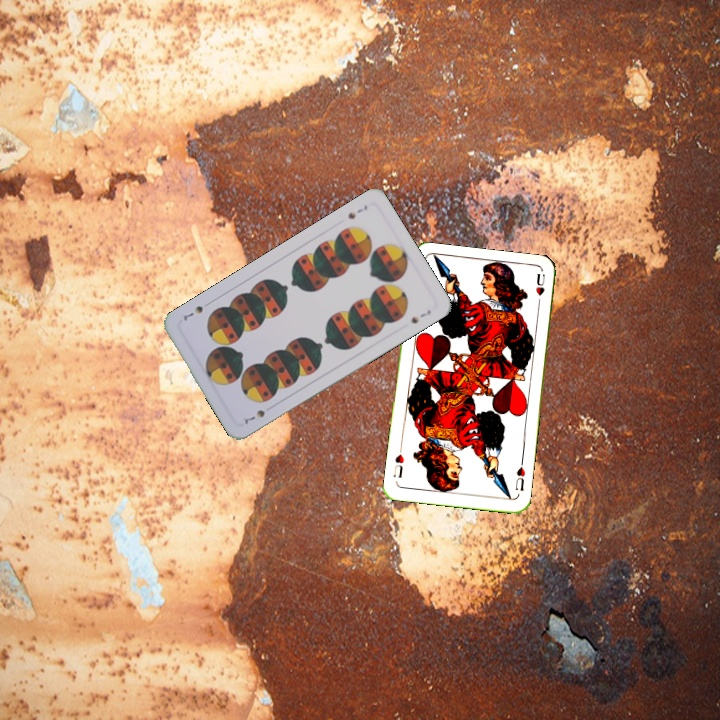HU: (511, 457, 528, 494)
S7: (240, 405, 267, 427), (344, 201, 370, 222)
